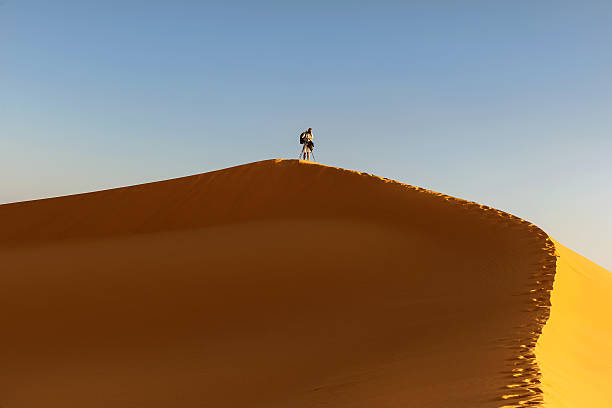human_foot_print: (432, 192, 558, 407)
